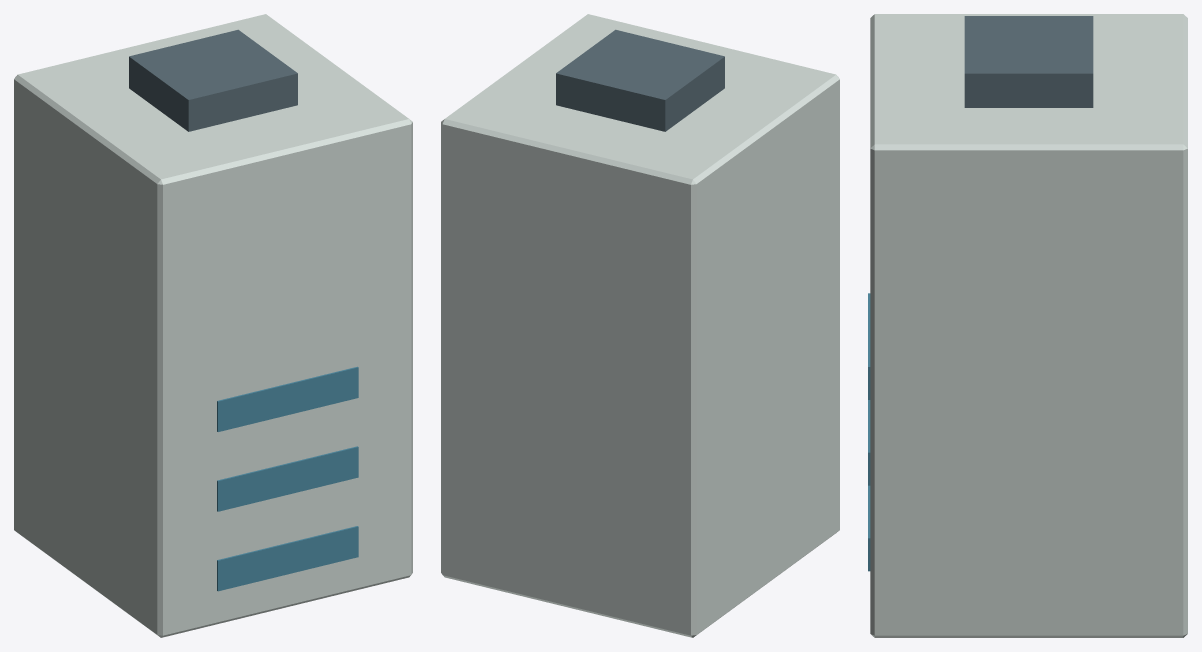
The model's file is office-low.glb.
The picture shows the model from 3 angles, left to right: view 1: azimuth 30°, elevation 25°; view 2: azimuth 150°, elevation 25°; view 3: azimuth 270°, elevation 25°; orthographic projection. The views are drawn at different scales.
Parts seen in each view (by area): view 1: Office_Body, Office_Penthouse, Window_F_0_0, Window_F_1_0, Window_F_2_0; view 2: Office_Body, Office_Penthouse; view 3: Office_Body, Office_Penthouse.
Boxes of the visible parts, x1,y1,x2,y2 form: Office_Body: (14, 14, 412, 637); Office_Penthouse: (129, 29, 297, 131); Window_F_0_0: (217, 526, 358, 591); Window_F_1_0: (217, 446, 358, 511); Window_F_2_0: (217, 366, 358, 431); Office_Body: (441, 14, 839, 637); Office_Penthouse: (556, 29, 724, 131); Office_Body: (870, 14, 1187, 637); Office_Penthouse: (964, 16, 1093, 107).
Size of the model in its own units: 4.2 by 7.7 by 4.23.
